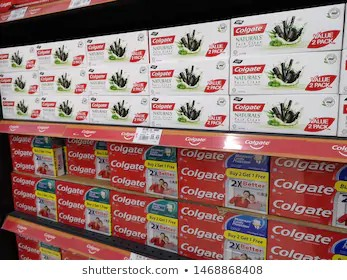colgate-family: (227, 5, 345, 60), (177, 161, 271, 215), (108, 143, 177, 202), (232, 56, 339, 93), (179, 201, 267, 244), (230, 99, 332, 130), (150, 55, 228, 94), (57, 182, 112, 237), (148, 95, 230, 130), (148, 29, 229, 58), (10, 174, 58, 222), (87, 30, 148, 66), (10, 135, 61, 175), (87, 66, 149, 97), (61, 139, 110, 174), (90, 97, 149, 126), (38, 97, 90, 126), (36, 43, 88, 70), (38, 70, 88, 97)
